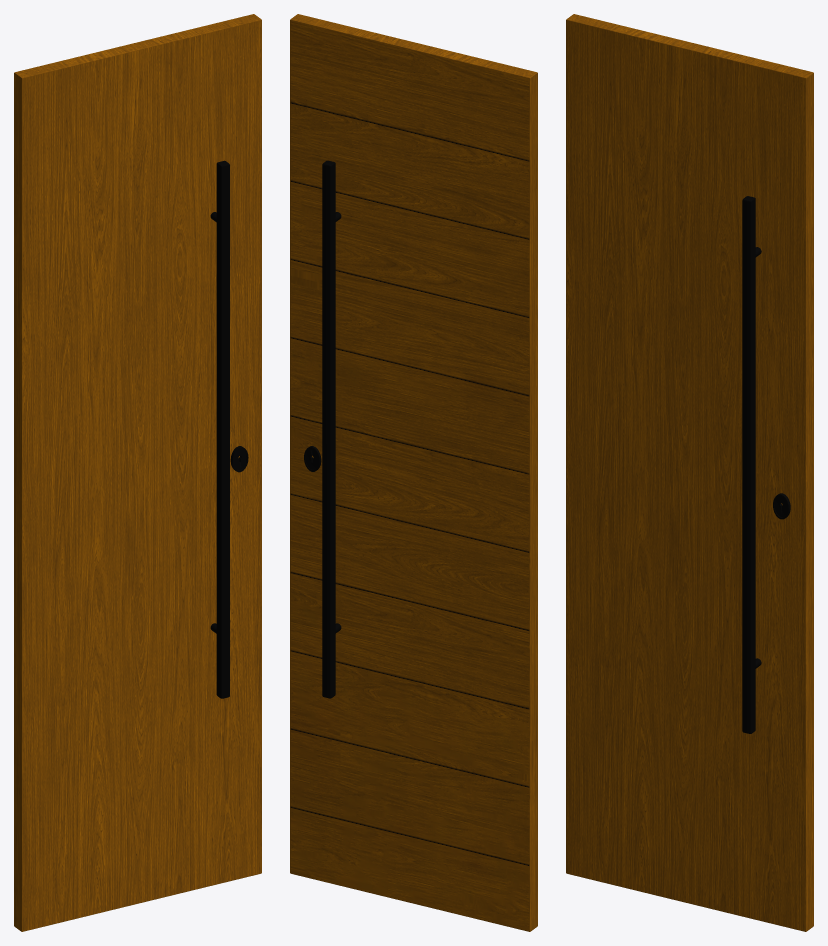
The model's file is VL_15_half_door.glb.
3 renders of one model, left to right at view 1: azimuth 30°, elevation 25°; view 2: azimuth 150°, elevation 25°; view 3: azimuth 330°, elevation 25°, orthographic.
Parts seen in each view (by area): view 1: VL_15:V_L_15__half_door; view 2: VL_15:V_L_15__half_door; view 3: VL_15:V_L_15__half_door.
Part boxes in pixels (bbox=[...]): VL_15:V_L_15__half_door: bbox=[14, 14, 261, 931]; VL_15:V_L_15__half_door: bbox=[290, 14, 537, 931]; VL_15:V_L_15__half_door: bbox=[566, 14, 813, 931].
Size of the model in its own units: 0.5169 by 1.76 by 0.1166.
1 material, 1 textured.
